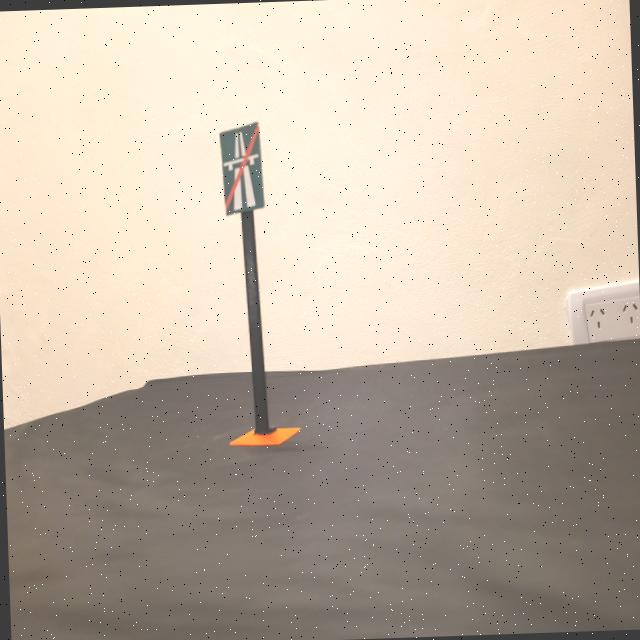highway_exit: (218, 120, 264, 222)
